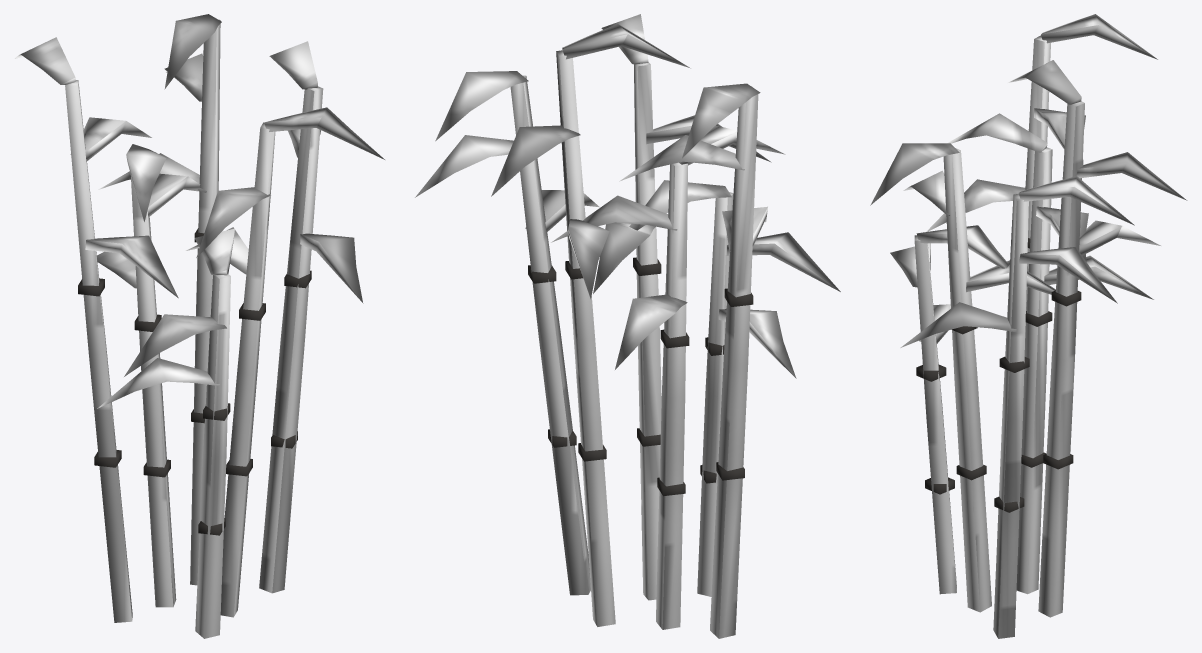
The model's file is tree_bamboo_2.obj.
3 views of the same model, side by side, from view 1: azimuth 30°, elevation 25°; view 2: azimuth 150°, elevation 25°; view 3: azimuth 270°, elevation 25° (orthographic). The views are drawn at different scales.
Parts seen in each view (by area): view 1: source_component_000, source_component_018, source_component_030, source_component_024, source_component_006, source_component_012, source_component_028, source_component_021, source_component_003, source_component_027, source_component_034, source_component_035 (+11 smaller); view 2: source_component_018, source_component_006, source_component_000, source_component_012, source_component_030, source_component_024, source_component_005, source_component_023, source_component_010, source_component_015, source_component_004, source_component_011 (+12 smaller); view 3: source_component_006, source_component_030, source_component_000, source_component_012, source_component_024, source_component_018, source_component_035, source_component_003, source_component_005, source_component_023, source_component_004, source_component_010 (+11 smaller).
Part boxes in pixels (x1,y1,x2,y2): source_component_000: (259, 86, 323, 593); source_component_018: (65, 80, 132, 622); source_component_030: (220, 122, 275, 617); source_component_024: (195, 274, 230, 638); source_component_006: (190, 19, 220, 585); source_component_012: (130, 175, 176, 607); source_component_028: (124, 314, 226, 376); source_component_021: (85, 235, 178, 298); source_component_003: (300, 233, 363, 303); source_component_027: (97, 358, 219, 408); source_component_034: (196, 187, 270, 257); source_component_035: (264, 107, 384, 159); source_component_018: (710, 86, 758, 638); source_component_006: (556, 50, 615, 626); source_component_000: (510, 75, 590, 595); source_component_012: (656, 162, 687, 629); source_component_030: (634, 62, 661, 600); source_component_024: (697, 192, 733, 596); source_component_005: (435, 71, 528, 141); source_component_023: (682, 83, 760, 158); source_component_010: (491, 125, 580, 196); source_component_015: (615, 294, 687, 369); source_component_004: (415, 135, 513, 197); source_component_011: (562, 24, 690, 68); source_component_006: (1038, 101, 1084, 617); source_component_030: (943, 148, 991, 612); source_component_000: (993, 194, 1028, 638); source_component_012: (1016, 147, 1052, 594); source_component_024: (914, 235, 956, 594); source_component_018: (1025, 35, 1050, 338); source_component_035: (870, 143, 959, 205); source_component_003: (900, 302, 1016, 347); source_component_005: (1018, 176, 1134, 225); source_component_023: (1041, 14, 1157, 59); source_component_004: (1018, 247, 1117, 303); source_component_010: (1076, 152, 1187, 200).
Size of the model in its own units: 0.6024 by 1.08 by 0.5733.
